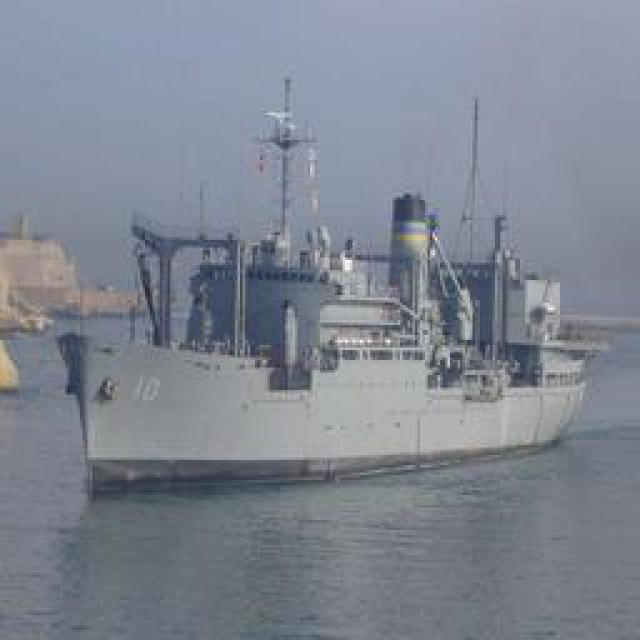Ship: (70, 73, 605, 488)
